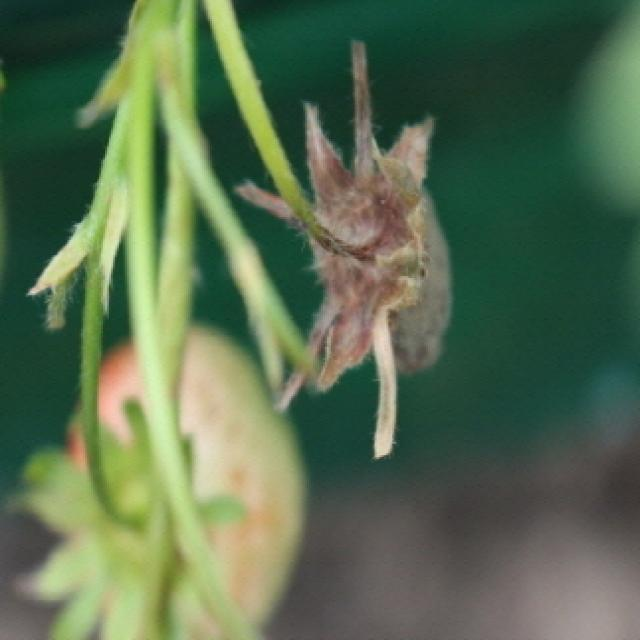Gray Mold: (233, 39, 453, 461)
